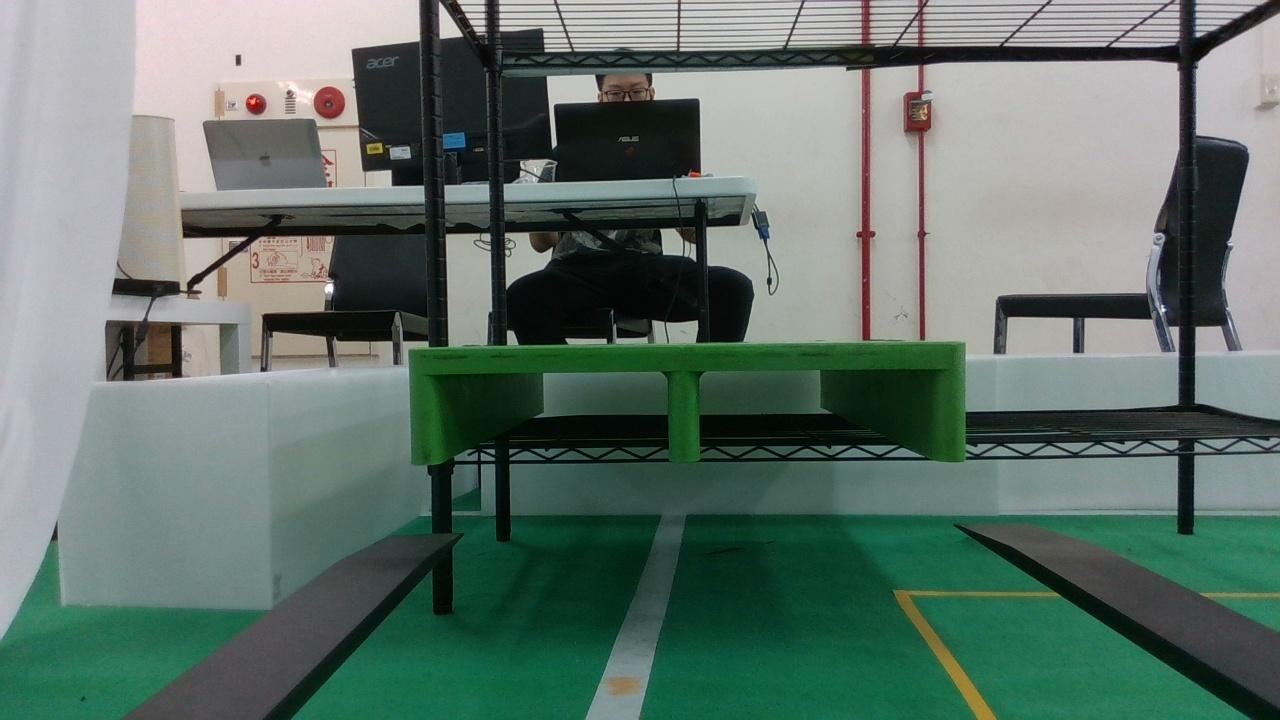Pallet: (408, 340, 969, 468)
